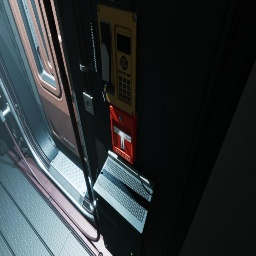EmergencyPhone ,: (89, 0, 140, 116)
FireAlarm ,: (110, 103, 137, 165)
SafetySwitchPanel ,: (0, 95, 1, 98)
